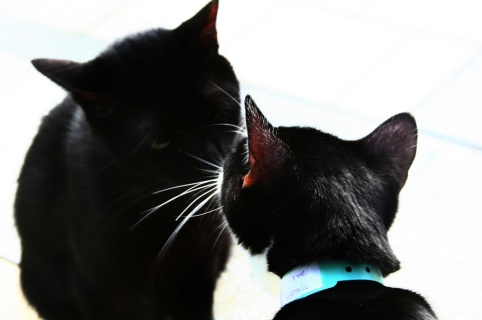Cat: (124, 93, 441, 319)
